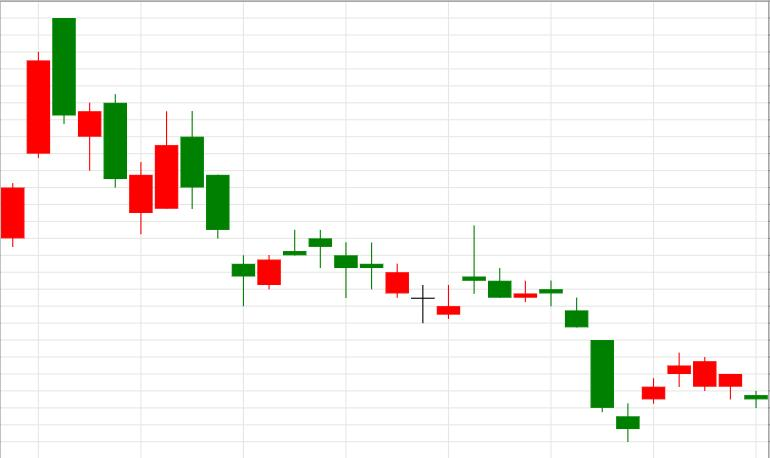morning_star_rise: (462, 226, 666, 441)
